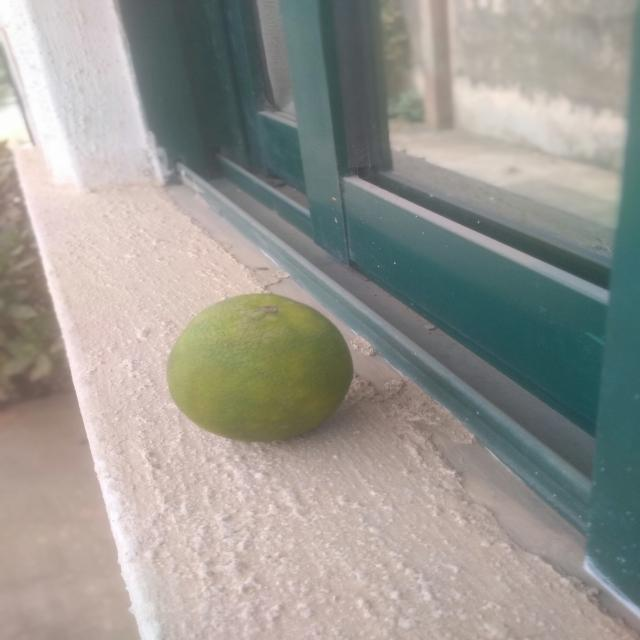Unripe: (133, 274, 387, 478)
